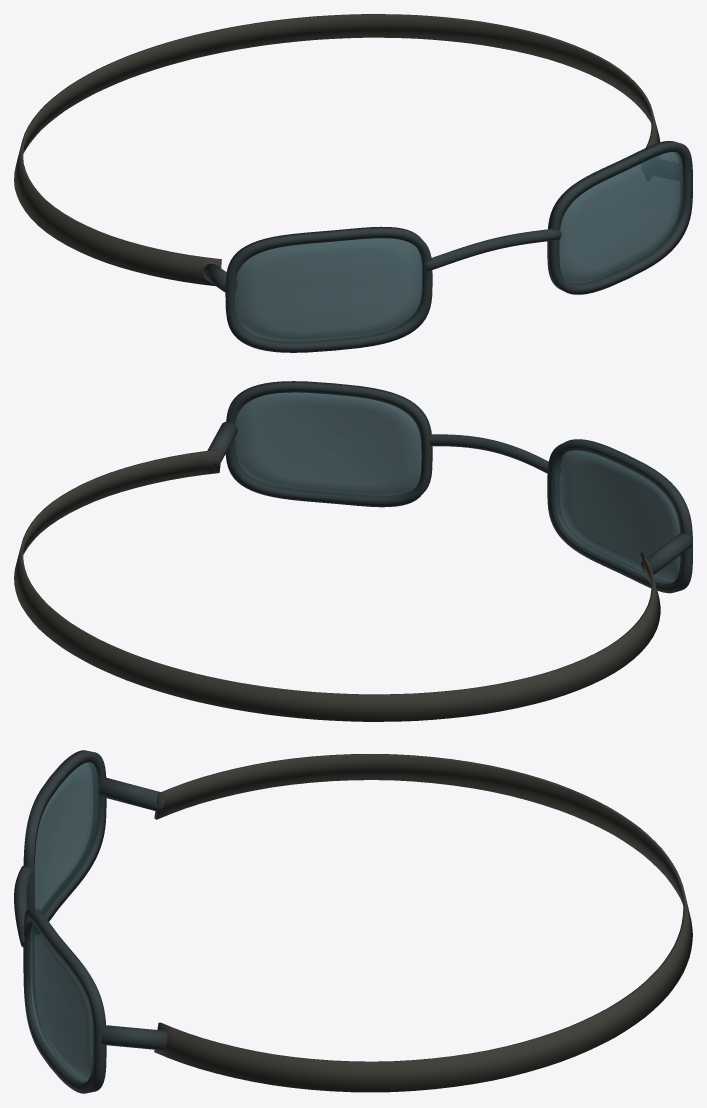
Rendered from goose-face-goggles.glb.
The picture shows the model from 3 angles, top to bottom: view 1: azimuth 30°, elevation 25°; view 2: azimuth 150°, elevation 25°; view 3: azimuth 270°, elevation 25°; orthographic projection. The views are drawn at different scales.
Parts seen in each view (by area): view 1: goose_face_goggles_mesh; view 2: goose_face_goggles_mesh; view 3: goose_face_goggles_mesh.
Boxes of the visible parts, bbox=[...] form: goose_face_goggles_mesh: bbox=[14, 14, 692, 352]; goose_face_goggles_mesh: bbox=[14, 381, 692, 721]; goose_face_goggles_mesh: bbox=[14, 750, 692, 1093].
Bounding box in the file's own units: 0.8933 × 0.172 × 0.8151.
